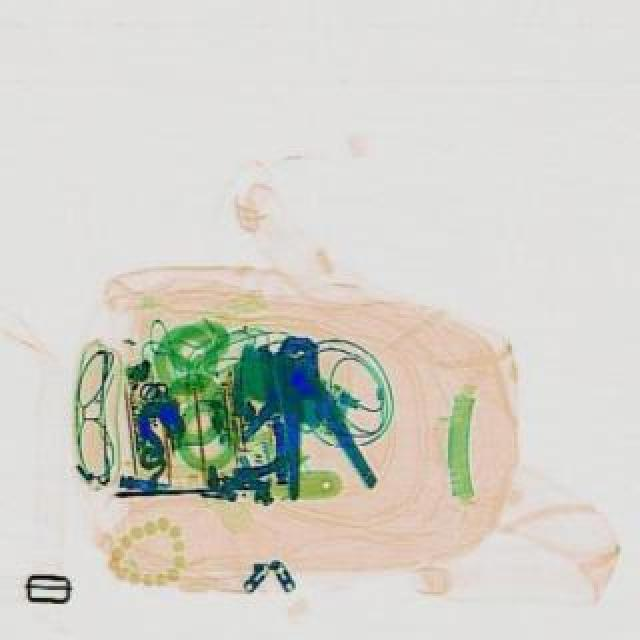wrench: (256, 322, 380, 502)
